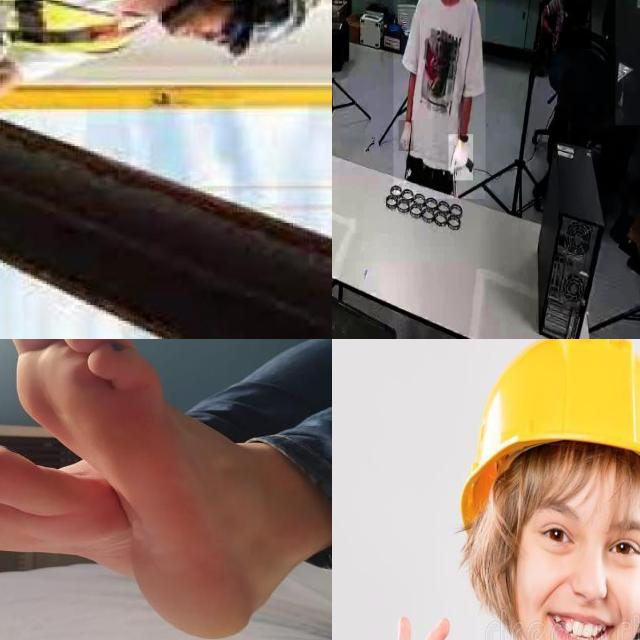Barefoots: (9, 339, 275, 640), (0, 423, 134, 577)
No_Glasses: (518, 496, 640, 591)
hand_glove: (448, 134, 474, 181), (398, 120, 414, 152)
hand_noglove: (549, 31, 561, 53)
person: (393, 0, 486, 199), (615, 0, 640, 126), (542, 0, 591, 49)
